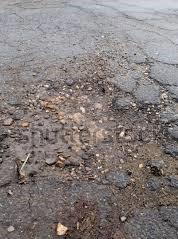pothole: (1, 75, 178, 220)
